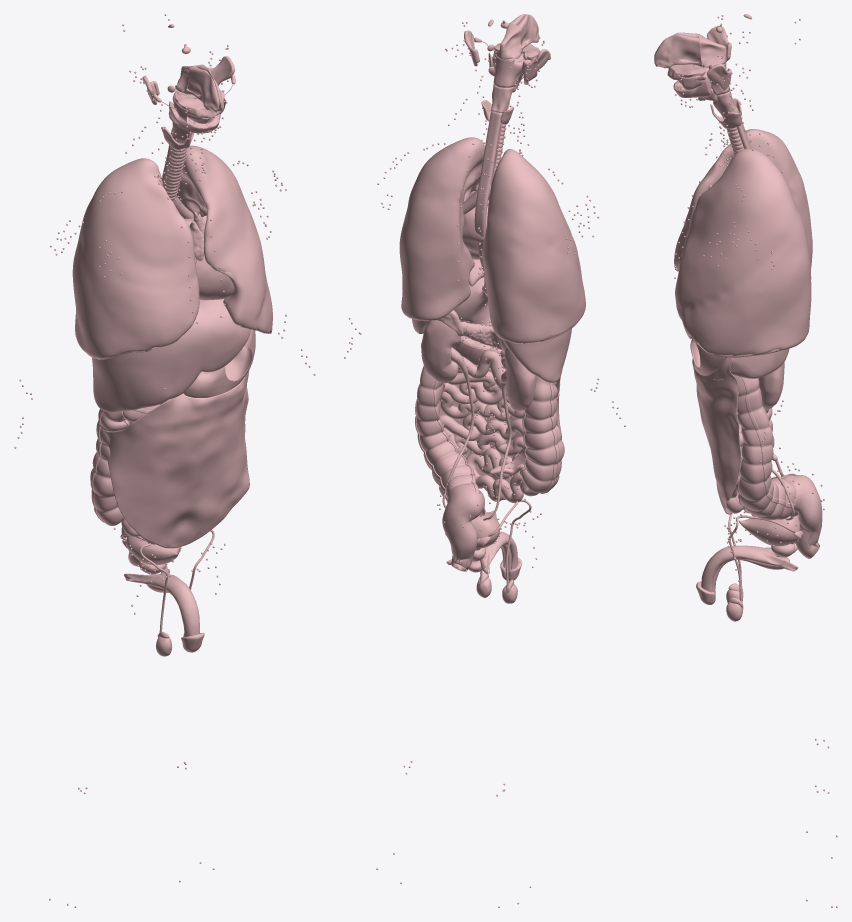
Rendered from organes.glb.
3 renders of one model, left to right at view 1: azimuth 30°, elevation 25°; view 2: azimuth 150°, elevation 25°; view 3: azimuth 270°, elevation 25°, orthographic. The views are drawn at different scales.
Parts seen in each view (by area): view 1: Pleura, Greater omentum, Liver, Ascending colon, Corpus cavernosum of penis, Stomach, Gingiva, Mucosa of nasal cavity, Right ventricle, Urinary bladder, Trachea, Mucosa of stomach; view 2: Pleura, Jejunum, Ascending colon, Descending colon, Sigmoid colon, Liver, Kidney.l, Oesophagus, Kidney.r, Stomach, Oropharynx, Mesocolic taenia (+9 smaller); view 3: Pleura, Descending colon, Greater omentum, Sigmoid colon, Corpus cavernosum of penis, Mucosa of nasal cavity, Urinary bladder, Spleen, Gingiva, Kidney.l, Mesocolic taenia, Nasopharynx (+6 smaller).
Boxes of the visible parts, x1=… form: Pleura: x1=72, y1=145, x2=272, y2=359; Greater omentum: x1=104, y1=370, x2=249, y2=548; Liver: x1=92, y1=298, x2=250, y2=412; Ascending colon: x1=90, y1=409, x2=127, y2=525; Corpus cavernosum of penis: x1=124, y1=564, x2=199, y2=636; Stomach: x1=183, y1=329, x2=255, y2=397; Gingiva: x1=169, y1=90, x2=224, y2=133; Mucosa of nasal cavity: x1=186, y1=64, x2=223, y2=112; Right ventricle: x1=196, y1=254, x2=233, y2=300; Urinary bladder: x1=126, y1=535, x2=180, y2=564; Trachea: x1=163, y1=147, x2=186, y2=200; Mucosa of stomach: x1=225, y1=347, x2=252, y2=381; Pleura: x1=399, y1=137, x2=585, y2=343; Jejunum: x1=440, y1=356, x2=538, y2=503; Ascending colon: x1=521, y1=376, x2=564, y2=493; Descending colon: x1=416, y1=366, x2=484, y2=516; Sigmoid colon: x1=442, y1=484, x2=484, y2=571; Liver: x1=469, y1=259, x2=571, y2=382; Kidney.l: x1=421, y1=320, x2=461, y2=383; Oesophagus: x1=474, y1=111, x2=502, y2=294; Kidney.r: x1=504, y1=347, x2=535, y2=411; Stomach: x1=454, y1=277, x2=491, y2=325; Oropharynx: x1=492, y1=50, x2=536, y2=87; Mesocolic taenia: x1=415, y1=365, x2=559, y2=502; Pleura: x1=674, y1=129, x2=812, y2=355; Descending colon: x1=737, y1=376, x2=798, y2=520; Greater omentum: x1=692, y1=357, x2=741, y2=514; Sigmoid colon: x1=789, y1=475, x2=822, y2=558; Corpus cavernosum of penis: x1=701, y1=545, x2=798, y2=591; Mucosa of nasal cavity: x1=654, y1=32, x2=701, y2=68; Urinary bladder: x1=739, y1=515, x2=800, y2=546; Spleen: x1=730, y1=348, x2=789, y2=378; Gingiva: x1=667, y1=64, x2=711, y2=97; Kidney.l: x1=758, y1=362, x2=784, y2=409; Mesocolic taenia: x1=741, y1=377, x2=795, y2=508; Nasopharynx: x1=699, y1=34, x2=726, y2=67.
Size of the model in its own units: 0.45 by 1.29 by 0.2472.
